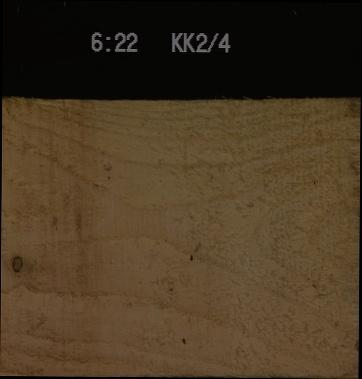dry_knot: (9, 253, 23, 273)
